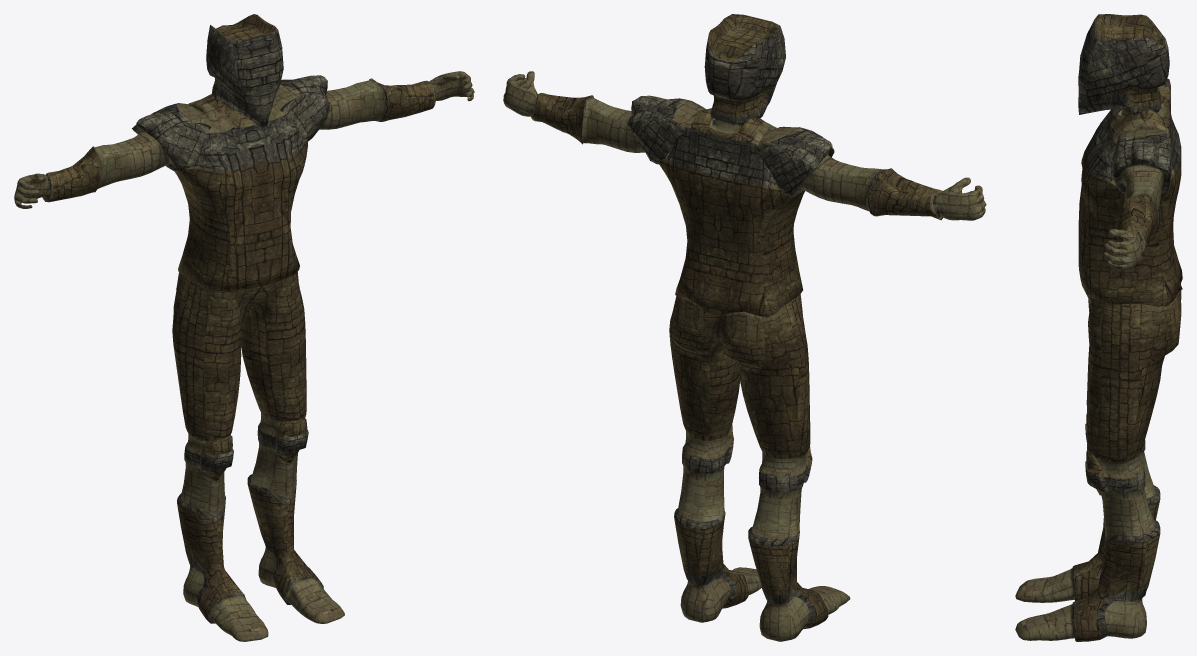
The model's file is Male_Human_Statue_1_Full.fbx.
3 renders of one model, left to right at view 1: azimuth 30°, elevation 25°; view 2: azimuth 150°, elevation 25°; view 3: azimuth 270°, elevation 25°, orthographic. The views are drawn at different scales.
Parts seen in each view (by area): view 1: Cube; view 2: Cube; view 3: Cube.
Boxes of the visible parts, left/top/right/bottom form: Cube: left=14, top=14, right=474, bottom=641; Cube: left=503, top=14, right=986, bottom=641; Cube: left=1015, top=14, right=1182, bottom=641.
Size of the model in its own units: 7.22 by 8.62 by 2.22.
